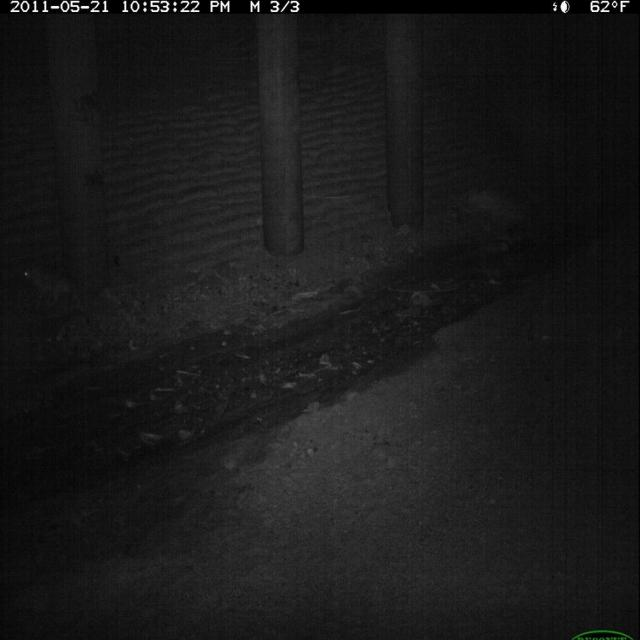bobcat: (18, 257, 82, 322)
